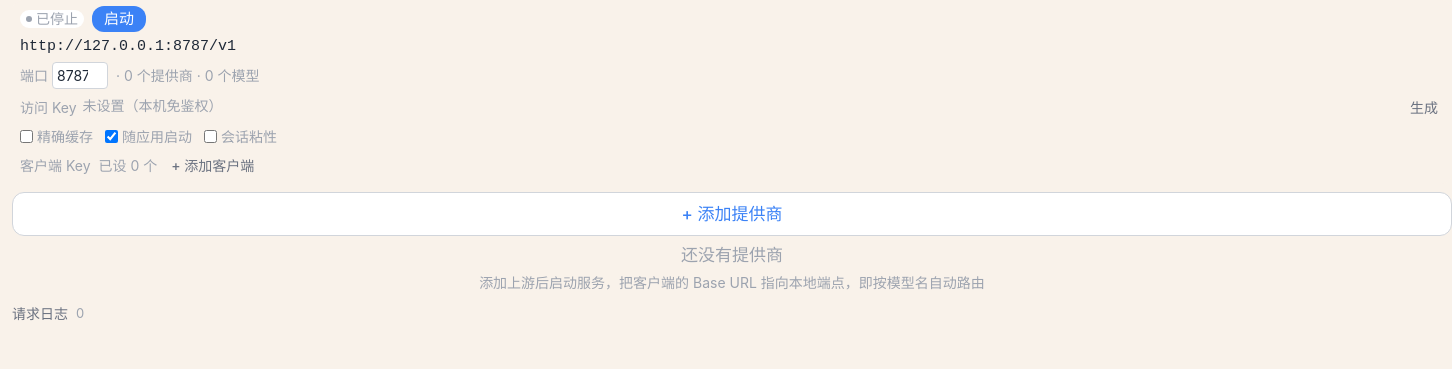
it: RelayPanel 限流展示 › adds a client key and lists it
The width and height of the screenshot is (1452, 369).
Click the button "+ 添加客户端" at (213, 166), box [165, 153, 260, 178]
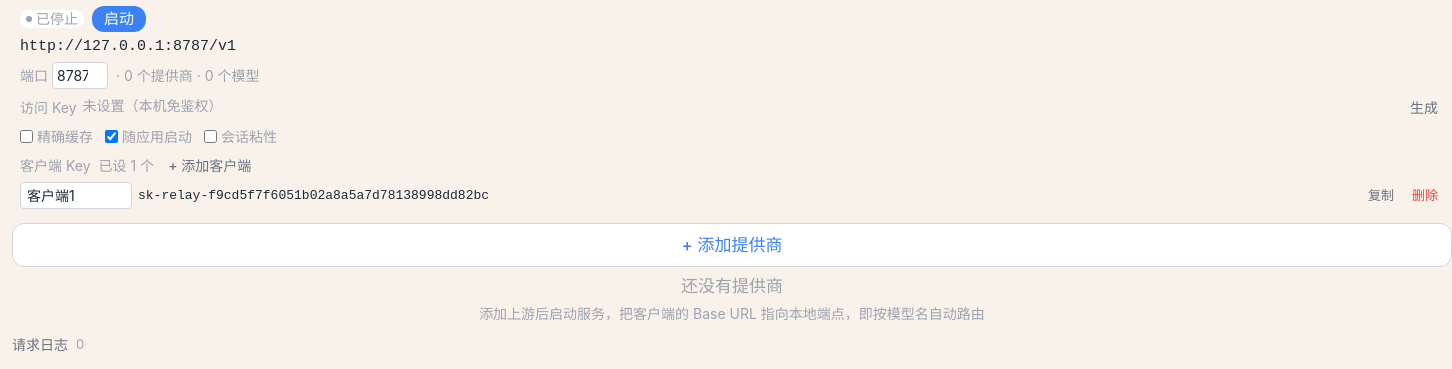
expect the text "已设 1 个" is shown: met, box [98, 155, 154, 176]
